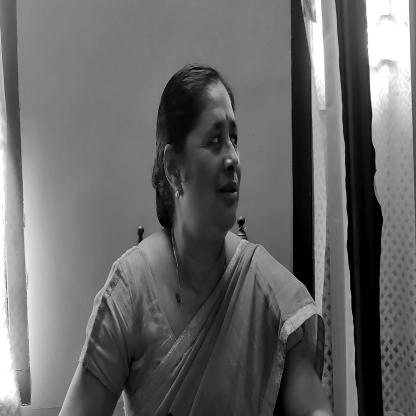Distracted: (157, 79, 246, 233)
